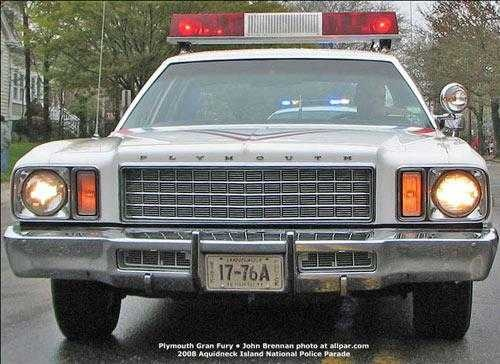Police Car: (19, 12, 491, 341)
